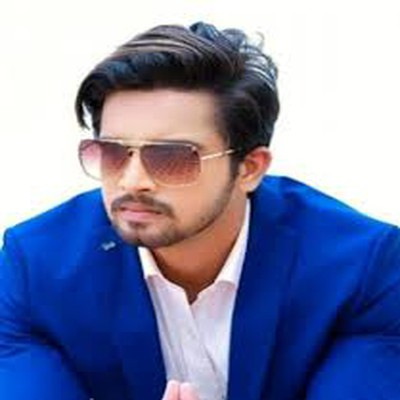eywear: (63, 110, 228, 214)
